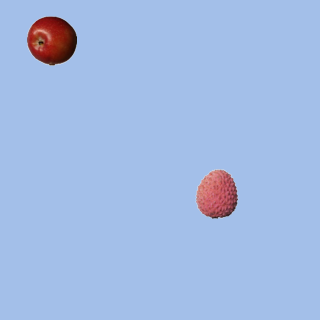Apple Braeburn: (26, 15, 76, 65)
Lychee: (191, 168, 241, 218)
